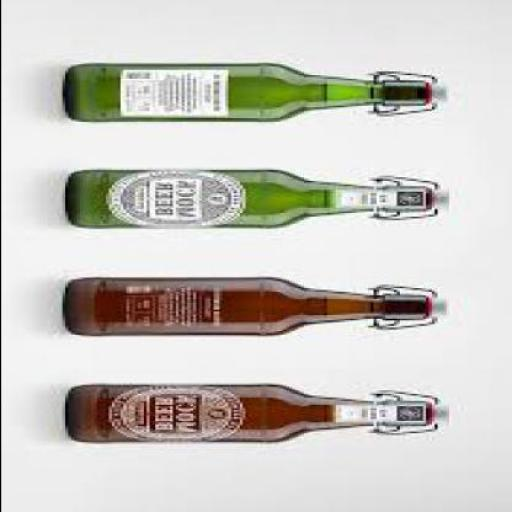glass: (61, 279, 430, 340), (64, 384, 433, 444), (64, 172, 433, 230), (62, 67, 433, 123)
plastic: (430, 297, 445, 322), (431, 86, 448, 108), (433, 189, 448, 213), (439, 406, 451, 428)
